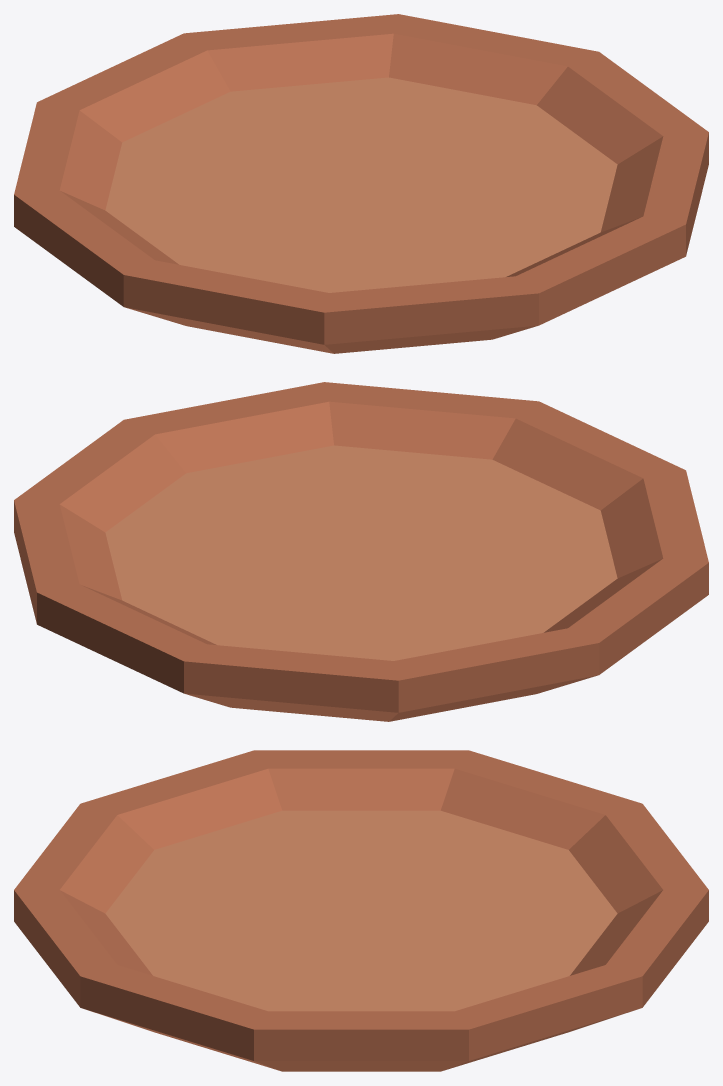
File: Plate.fbx
3 renders of one model, top to bottom at view 1: azimuth 30°, elevation 25°; view 2: azimuth 150°, elevation 25°; view 3: azimuth 270°, elevation 25°, orthographic. The views are drawn at different scales.
Visible parts, largest first — view 1: Plate; view 2: Plate; view 3: Plate.
Part boxes in pixels (x1=…): Plate: x1=14, y1=14, x2=708, y2=353; Plate: x1=14, y1=382, x2=708, y2=721; Plate: x1=14, y1=750, x2=708, y2=1071.
Bounding box in the file's own units: 0.3804 × 0.4 × 0.05.
